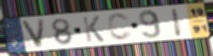8: (49, 18, 74, 46)
9: (138, 10, 163, 40)
C: (106, 12, 134, 42)
I: (171, 6, 184, 38)
K: (81, 15, 106, 43)
V: (19, 18, 47, 50)
